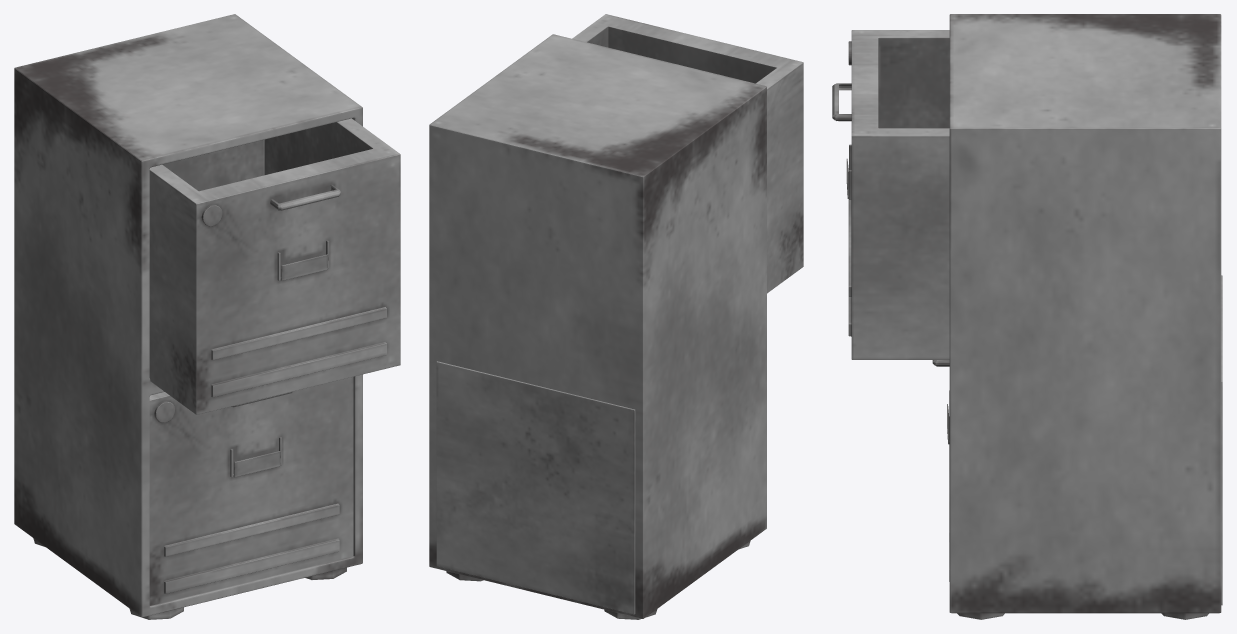
File: Arquivos_Del__CENA.fbx
3 renders of one model, left to right at view 1: azimuth 30°, elevation 25°; view 2: azimuth 150°, elevation 25°; view 3: azimuth 270°, elevation 25°, orthographic. The views are drawn at different scales.
Visible parts, largest first — view 1: Arquivos, Gaveta_1_Arquivos, Gaveta_2_Arquivos; view 2: Arquivos, Gaveta_2_Arquivos, Gaveta_1_Arquivos; view 3: Arquivos, Gaveta_1_Arquivos, Gaveta_2_Arquivos.
Boxes of the visible parts, <box> form: Arquivos: <box>14,14,362,619</box>; Gaveta_1_Arquivos: <box>149,118,400,414</box>; Gaveta_2_Arquivos: <box>149,376,353,605</box>; Arquivos: <box>429,34,766,619</box>; Gaveta_2_Arquivos: <box>436,361,635,614</box>; Gaveta_1_Arquivos: <box>572,14,803,293</box>; Arquivos: <box>949,14,1221,619</box>; Gaveta_1_Arquivos: <box>832,30,949,359</box>; Gaveta_2_Arquivos: <box>932,275,1222,605</box>.
Size of the model in its own units: 59.64 by 120 by 85.69.
